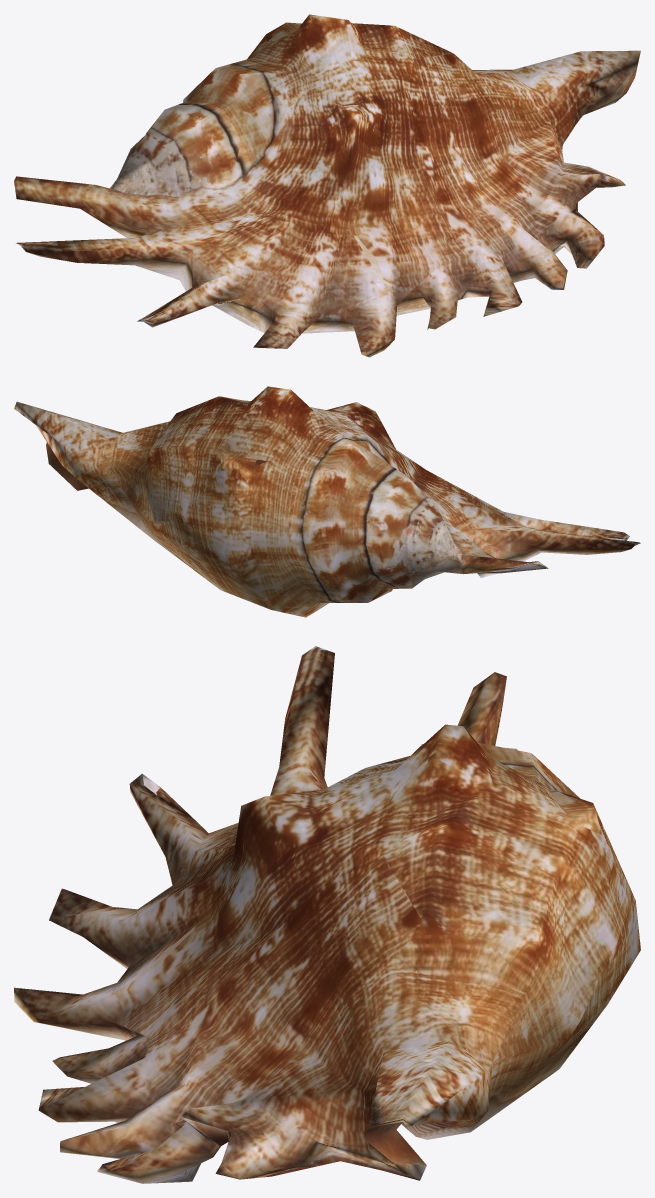
Rendered from shell-0-mid.glb.
The picture shows the model from 3 angles, top to bottom: view 1: azimuth 30°, elevation 25°; view 2: azimuth 150°, elevation 25°; view 3: azimuth 270°, elevation 25°; orthographic projection. The views are drawn at different scales.
Visible parts, largest first — view 1: lambis_shell; view 2: lambis_shell; view 3: lambis_shell.
Boxes of the visible parts, left/top/right/bottom form: lambis_shell: left=14, top=14, right=640, bottom=357; lambis_shell: left=14, top=386, right=640, bottom=617; lambis_shell: left=14, top=646, right=640, bottom=1183.
Bounding box in the file's own units: 0.1387 × 0.0457 × 0.0743.
1 material, 1 textured.
